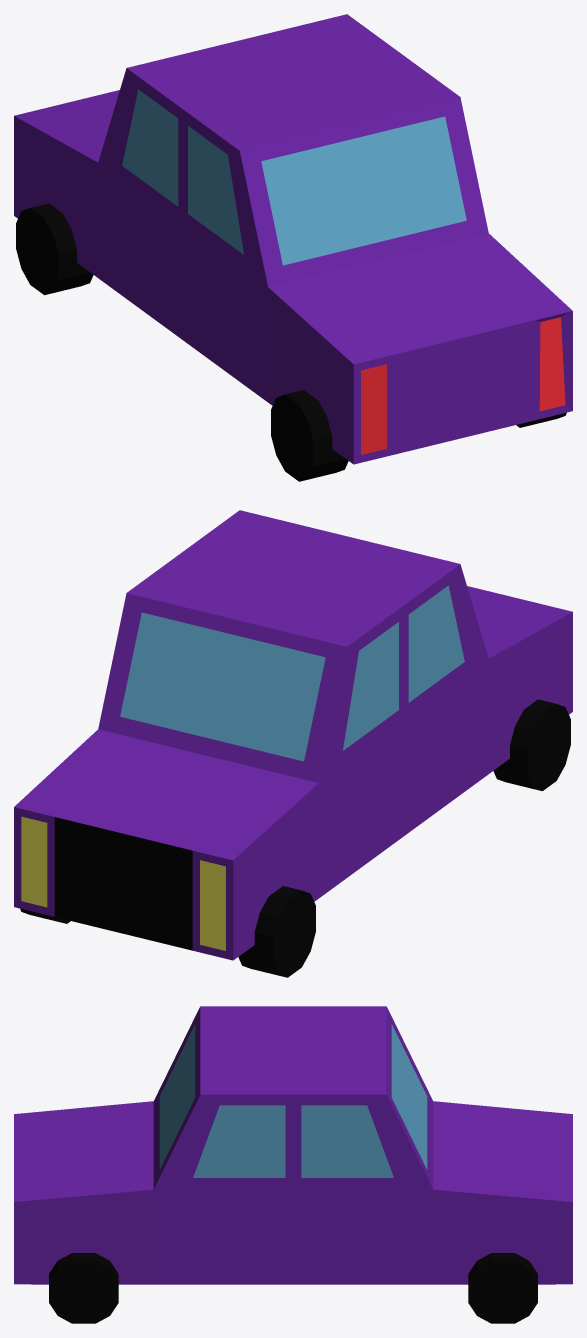
File: prop-car.fbx
3 views of the same model, one above another, from view 1: azimuth 30°, elevation 25°; view 2: azimuth 150°, elevation 25°; view 3: azimuth 270°, elevation 25° (orthographic). The views are drawn at different scales.
Visible parts, largest first — view 1: prop-car; view 2: prop-car; view 3: prop-car.
Boxes of the visible parts, x1,y1,x2,y2 form: prop-car: (14, 14, 572, 481); prop-car: (14, 510, 572, 977); prop-car: (14, 1006, 572, 1323).
Bounding box in the file's own units: 87.5 × 87.5 × 200.
